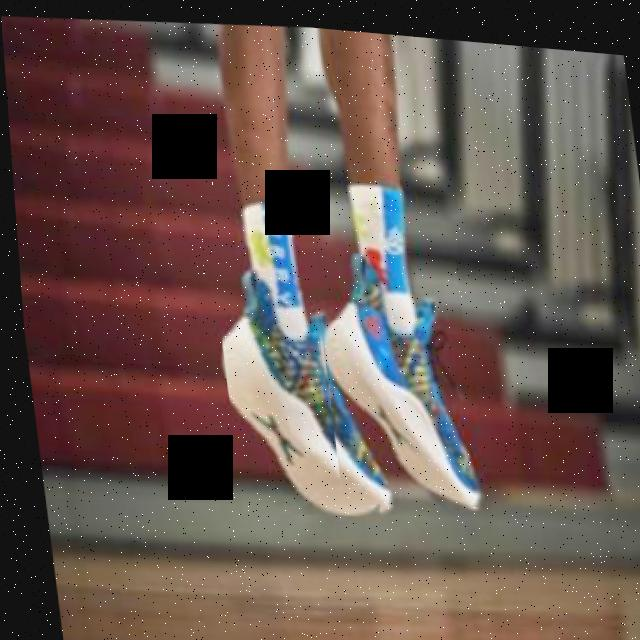shoe: (208, 256, 390, 520), (308, 238, 480, 508)
